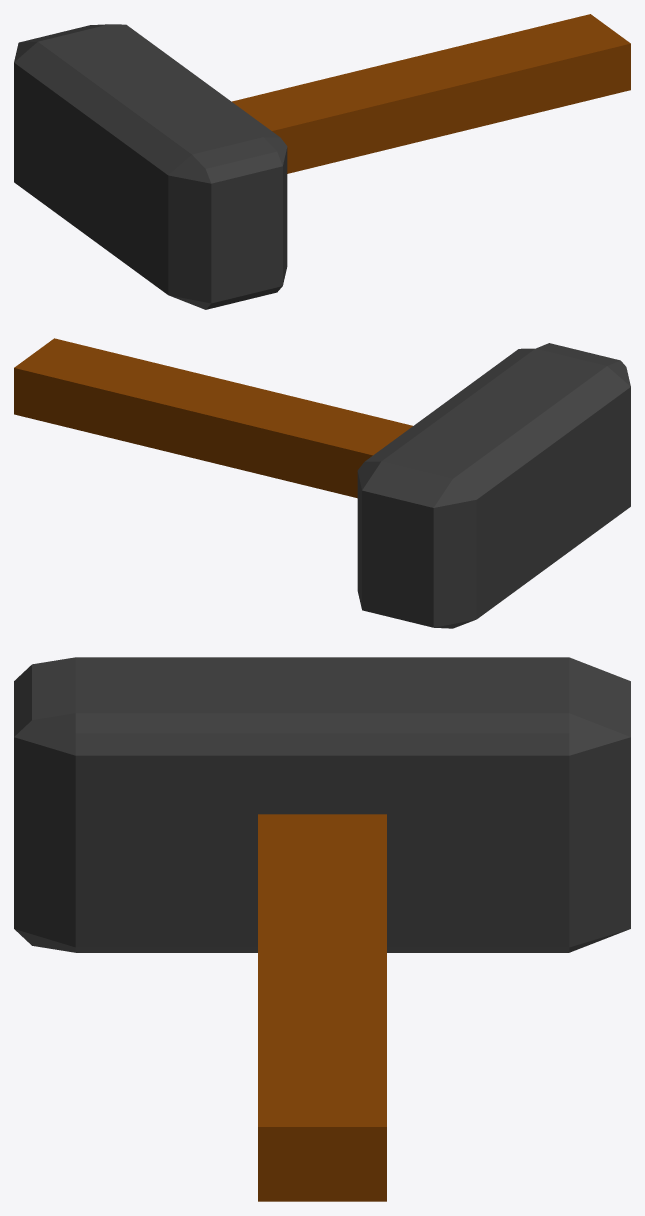
File: maze.glb
3 renders of one model, top to bottom at view 1: azimuth 30°, elevation 25°; view 2: azimuth 150°, elevation 25°; view 3: azimuth 270°, elevation 25°, orthographic. The views are drawn at different scales.
Parts seen in each view (by area): view 1: maze; view 2: maze; view 3: maze.
Part boxes in pixels (bbox=[...]): maze: bbox=[14, 14, 630, 309]; maze: bbox=[14, 338, 630, 628]; maze: bbox=[14, 657, 630, 1201].
Bounding box in the file's own units: 0.7322 × 0.2016 × 0.4704.
